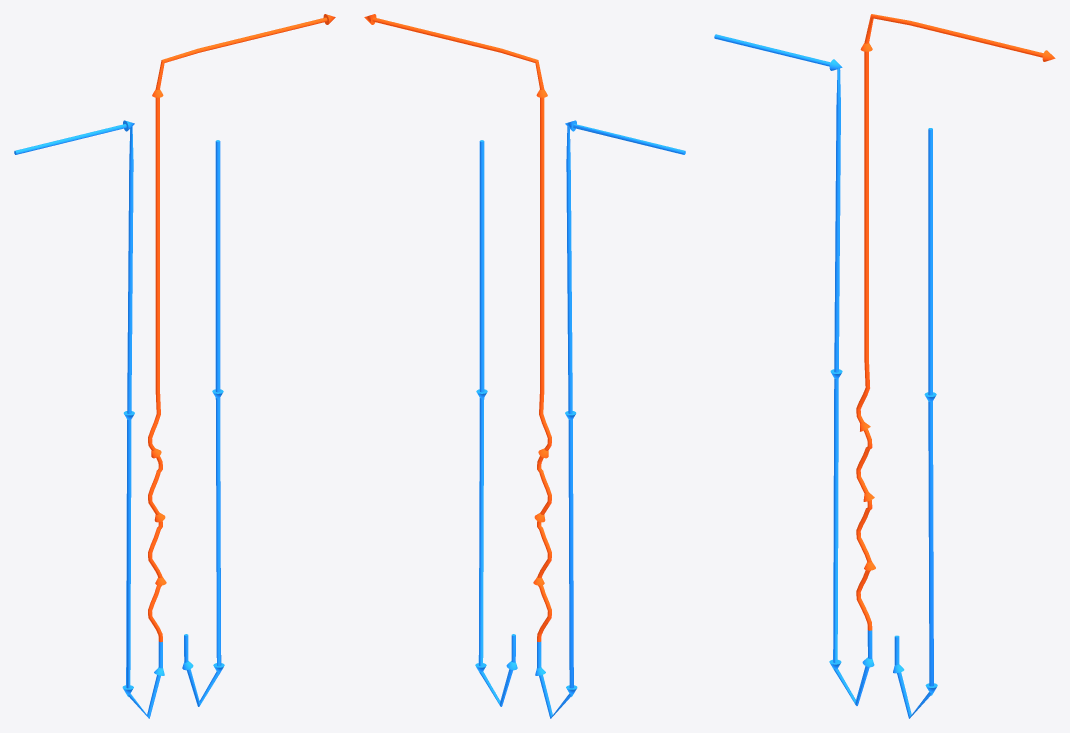
File: vertical_can_pump_flow.glb
3 views of the same model, side by side, from view 1: azimuth 30°, elevation 25°; view 2: azimuth 150°, elevation 25°; view 3: azimuth 330°, elevation 25° (orthographic). The views are drawn at different scales.
Visible parts, largest first — view 1: flow_discharge, flow_suction, flow_suction2; view 2: flow_discharge, flow_suction, flow_suction2; view 3: flow_suction, flow_discharge, flow_suction2.
Part boxes in pixels (x1,y1,x2,y2): flow_discharge: (148,14,335,642); flow_suction: (14,120,164,718); flow_suction2: (182,140,224,706); flow_discharge: (364,14,551,641); flow_suction: (535,120,685,718); flow_suction2: (475,140,517,706); flow_suction: (714,34,874,705); flow_discharge: (856,14,1055,630); flow_suction2: (893,128,937,718).
Size of the model in its own units: 1.52 by 2.99 by 0.0468.
